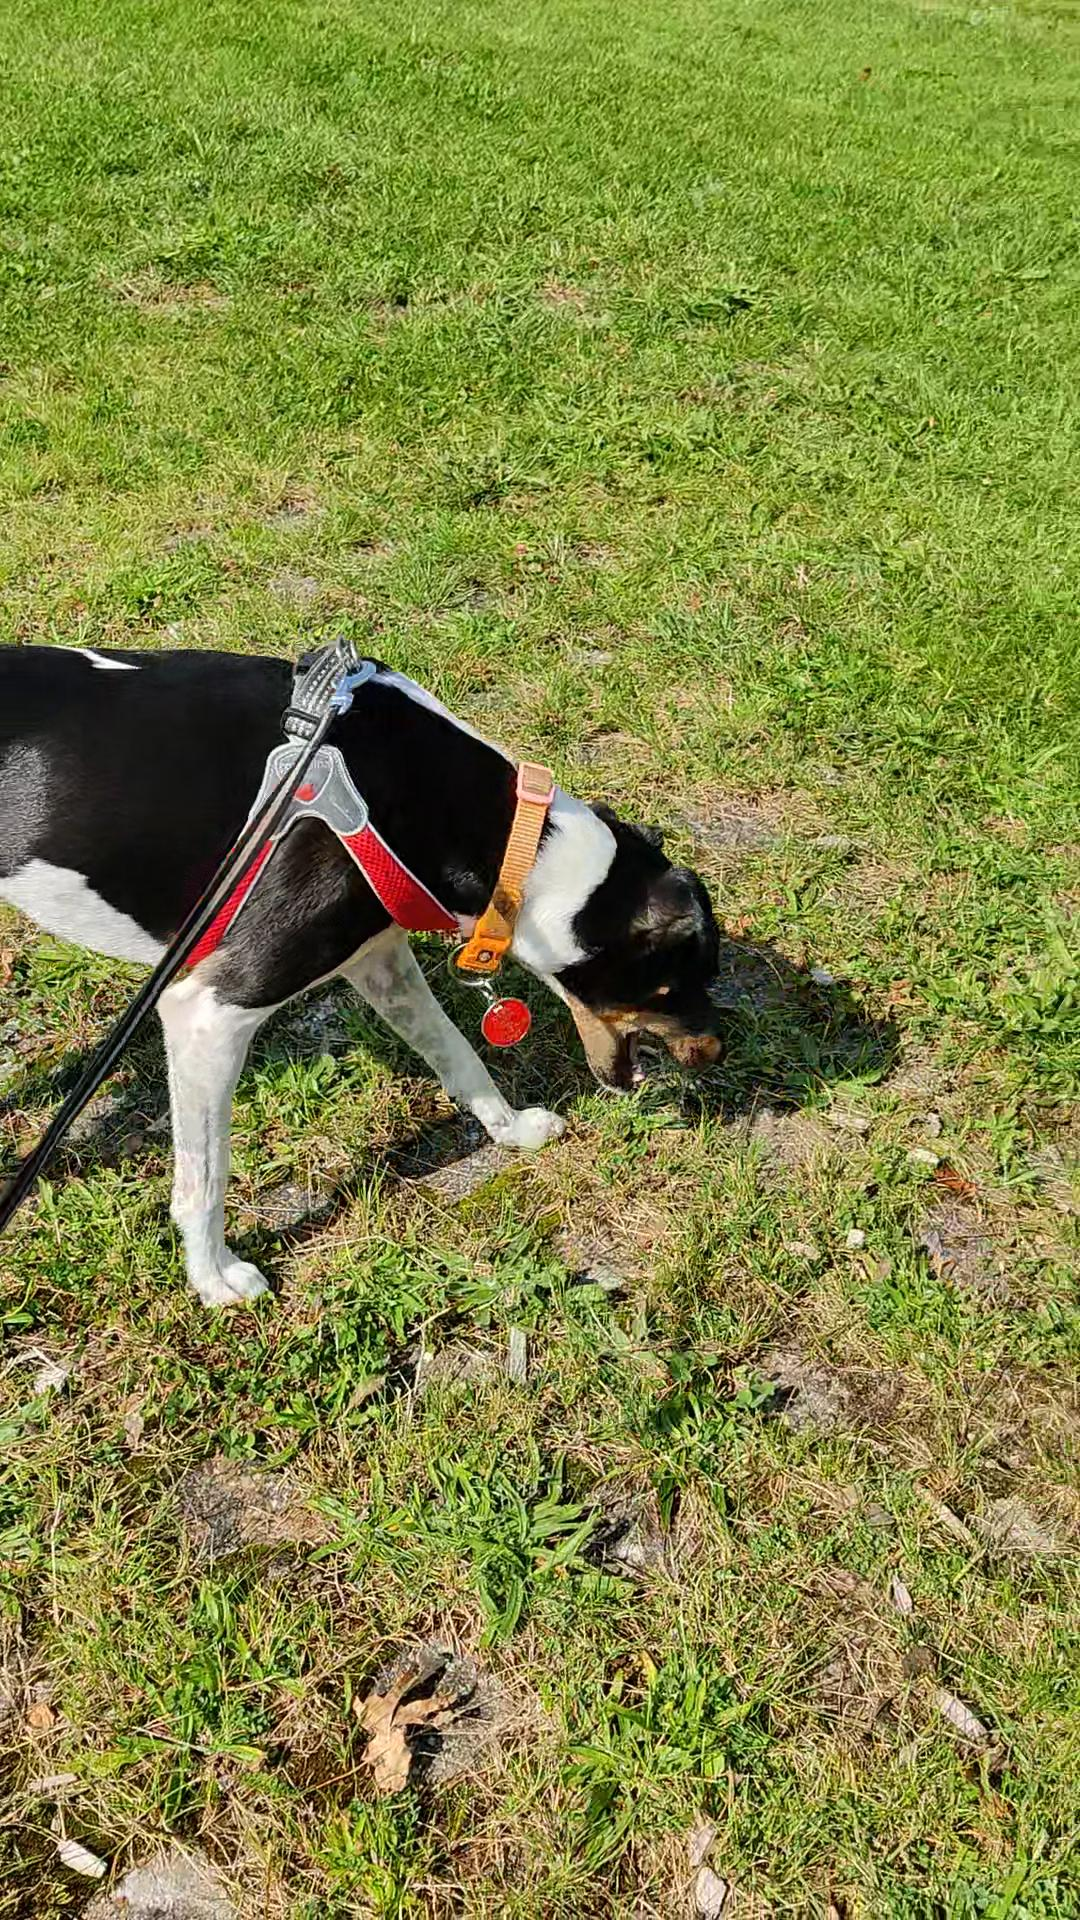Dog: (0, 636, 756, 1323)
